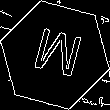M_S: (26, 25, 84, 85)
